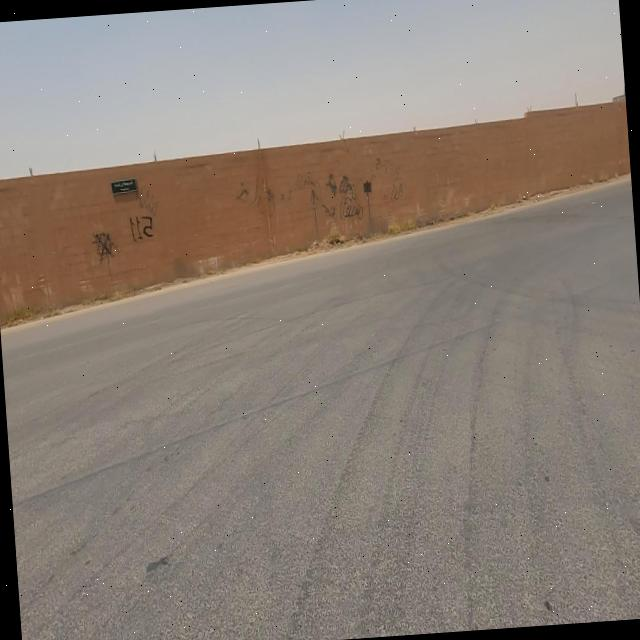Graffiti: (235, 155, 406, 234), (138, 184, 159, 218), (94, 232, 115, 263), (129, 216, 154, 241)
